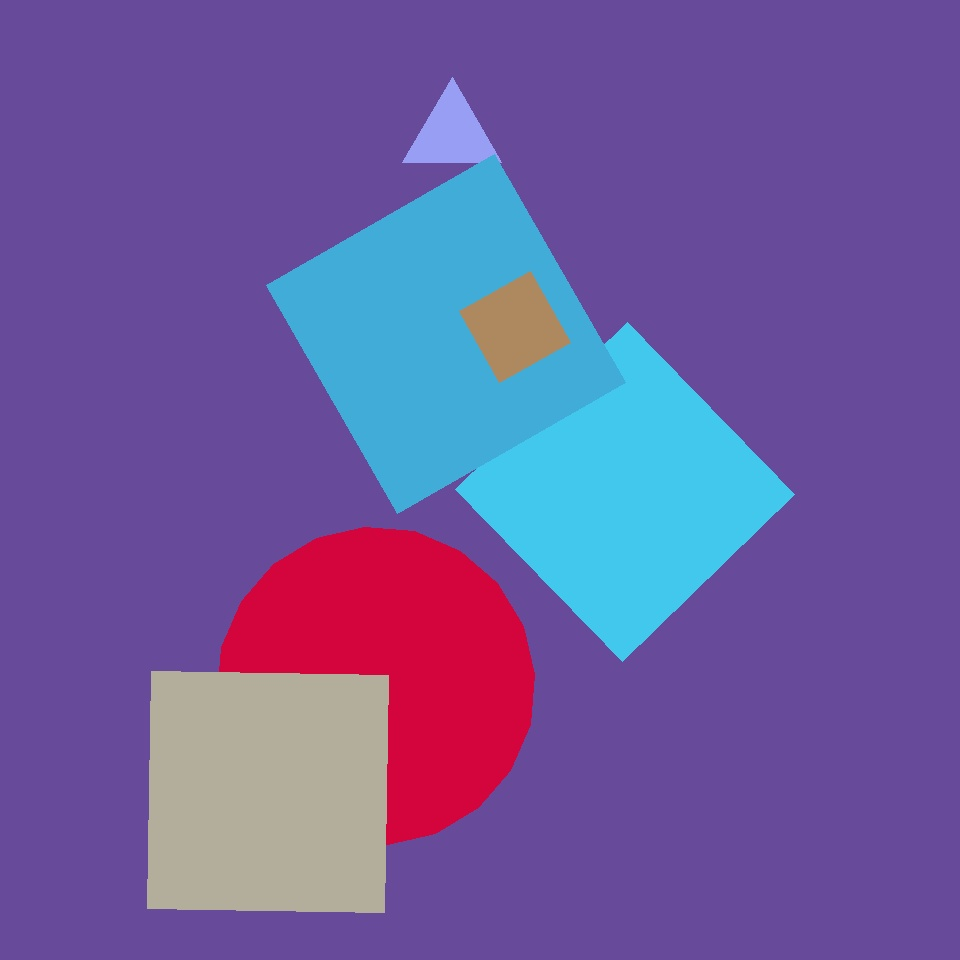circle: (372, 213, 607, 459), (606, 63, 819, 286), (402, 92, 501, 176)
square: (266, 154, 626, 514), (455, 322, 794, 661), (148, 672, 388, 912), (460, 272, 571, 382)
triangle: (218, 528, 534, 844), (635, 1, 944, 310)
